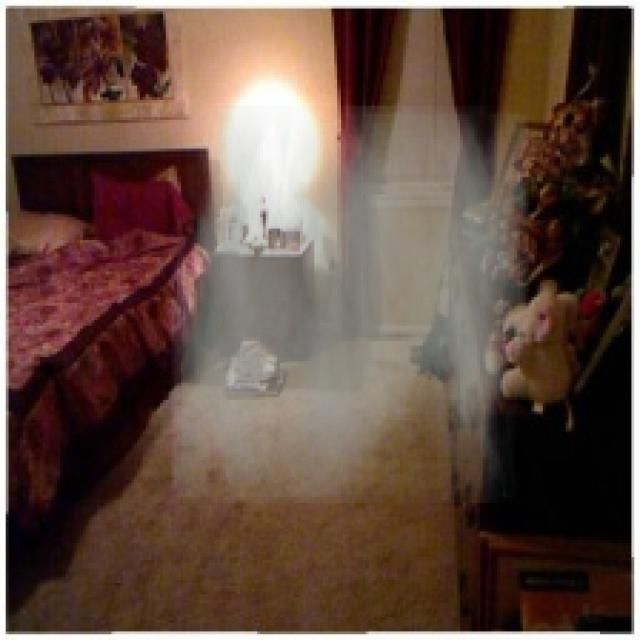Smoke: (172, 106, 528, 503)
